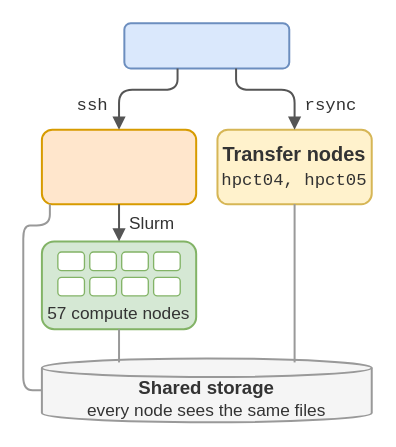
This 396x447 diagram has some shape labels left out. The shapes that lost their labels are listed below. From the top down, each one's box as (x1, y1, x2, y2) in pixels, then its label:
(123, 22, 290, 69): Your laptop
(40, 128, 197, 205): Login nodes hpcs05, hpcs06
